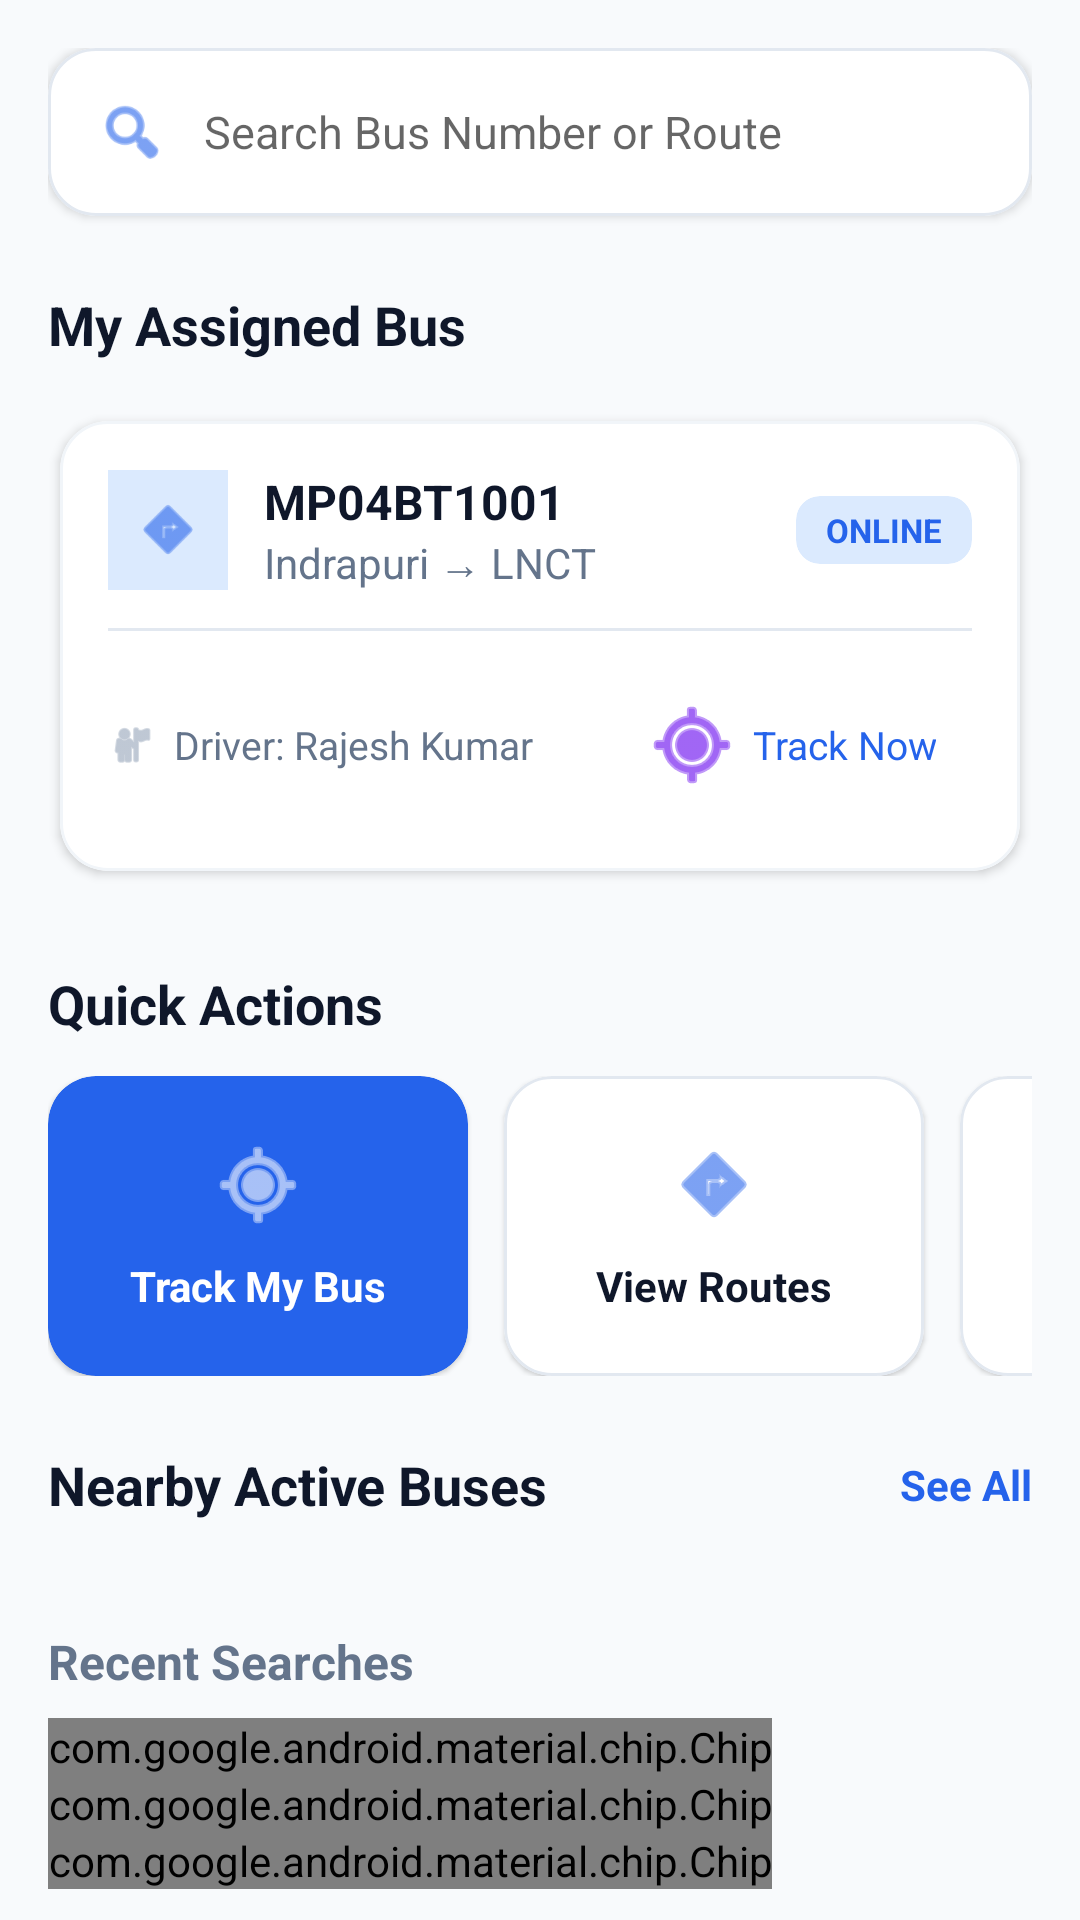

Named icons in this screenshot (1080 x 1920) and their bounding boxes, region(x1, y1, x2, y2):
directions: region(108, 470, 228, 590), region(681, 1152, 747, 1217)
